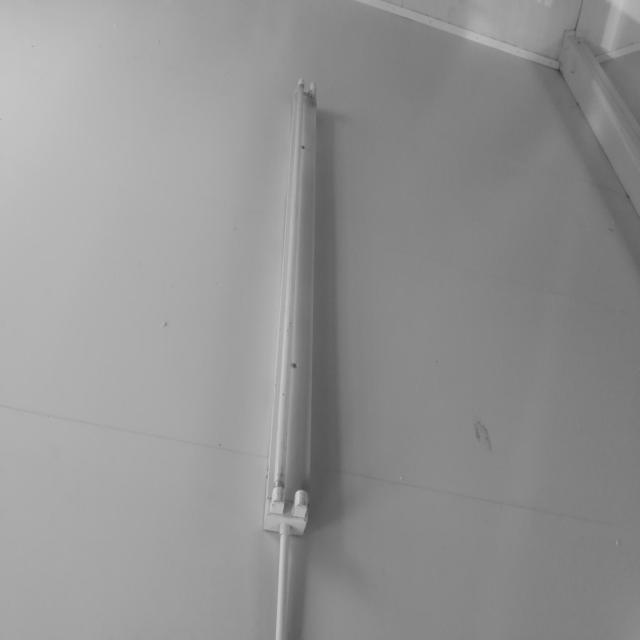light: (262, 66, 318, 536)
